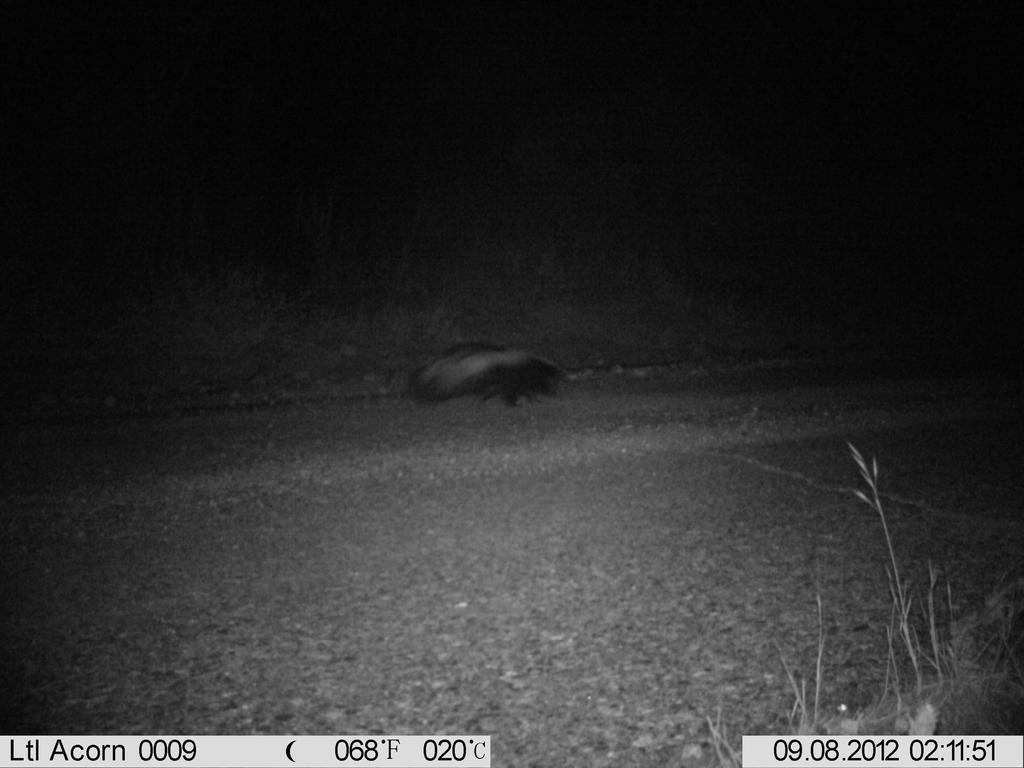skunk: (393, 319, 569, 409)
